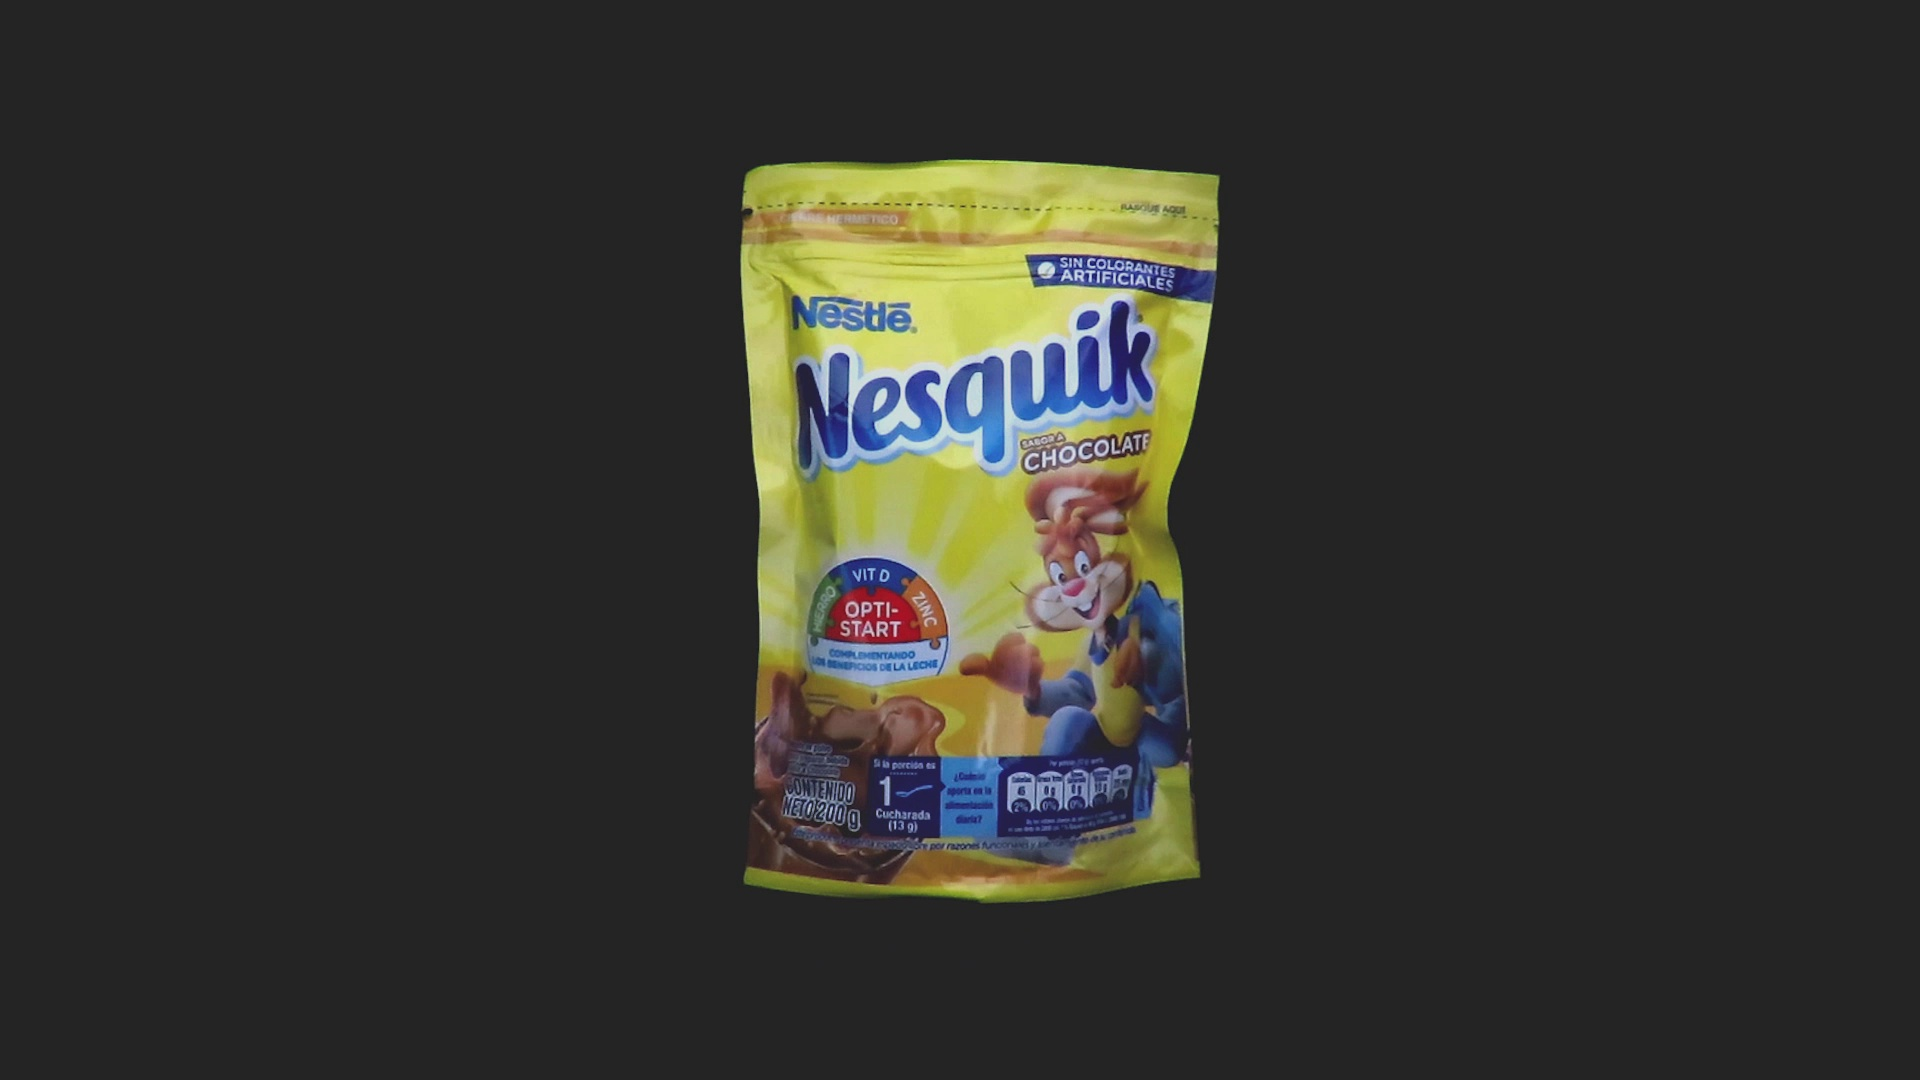COL0170303DYP20000: (735, 154, 1226, 910)
